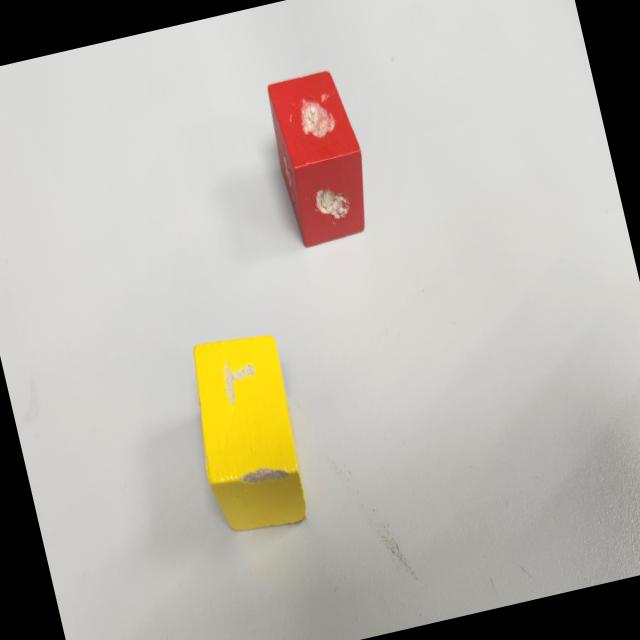broken: (178, 326, 316, 540), (258, 67, 381, 250)
